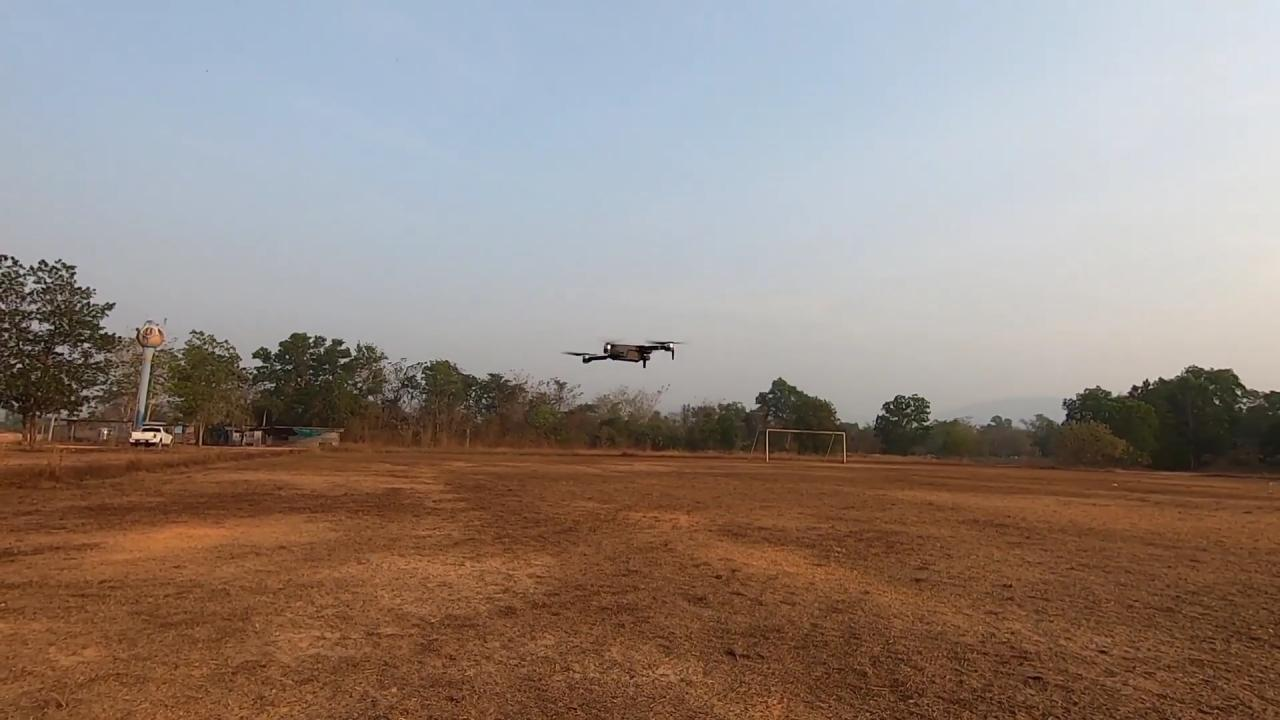Drone: (552, 329, 694, 378)
